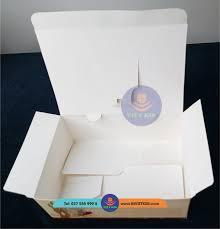box: (3, 8, 213, 219)
